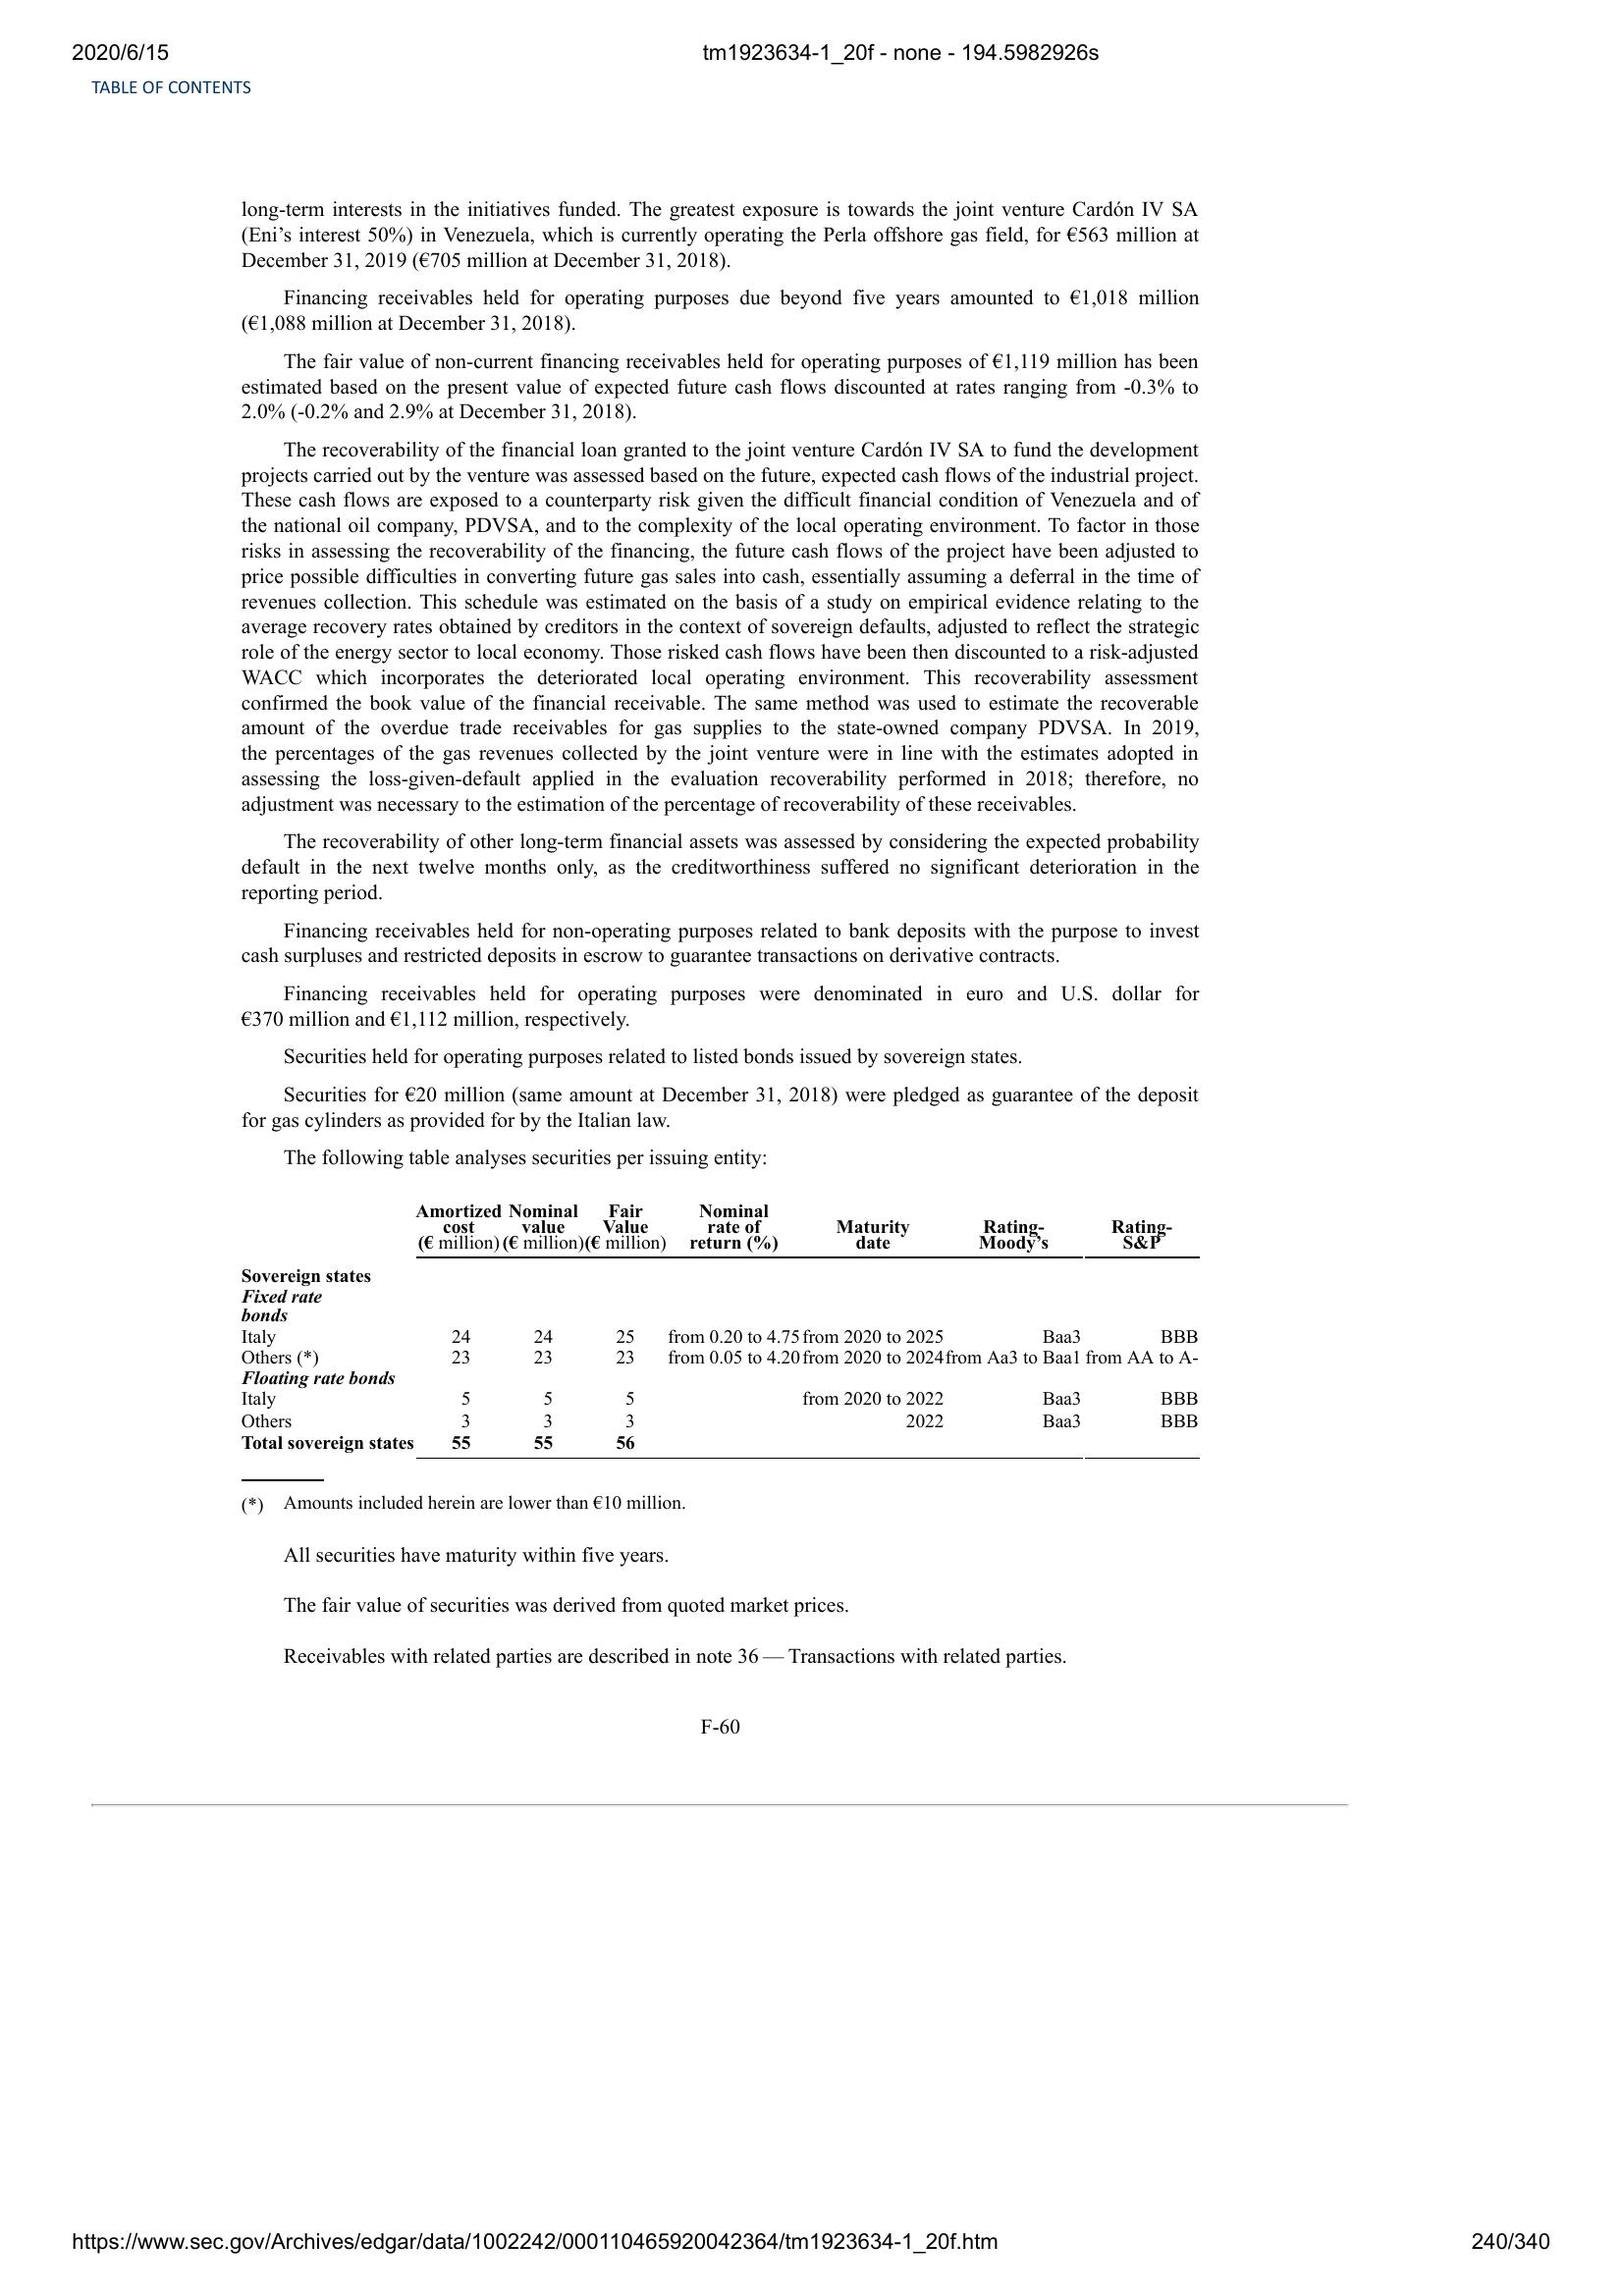table: (239, 1195, 1201, 1469)
